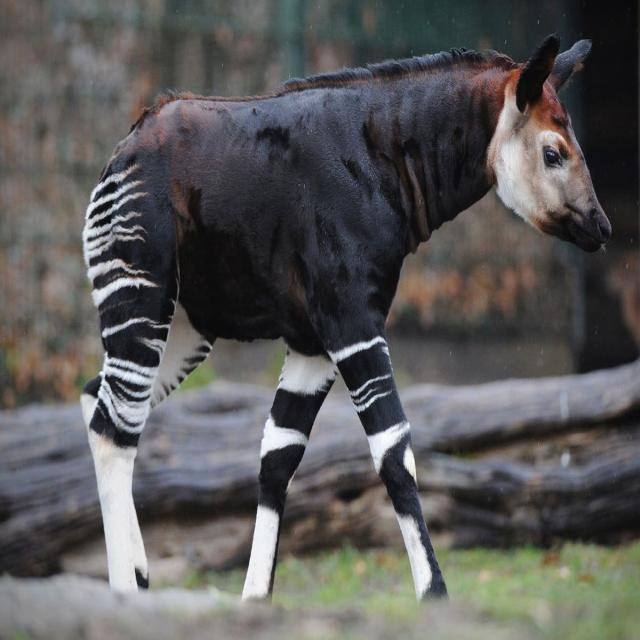Okapi: (77, 24, 612, 607)
